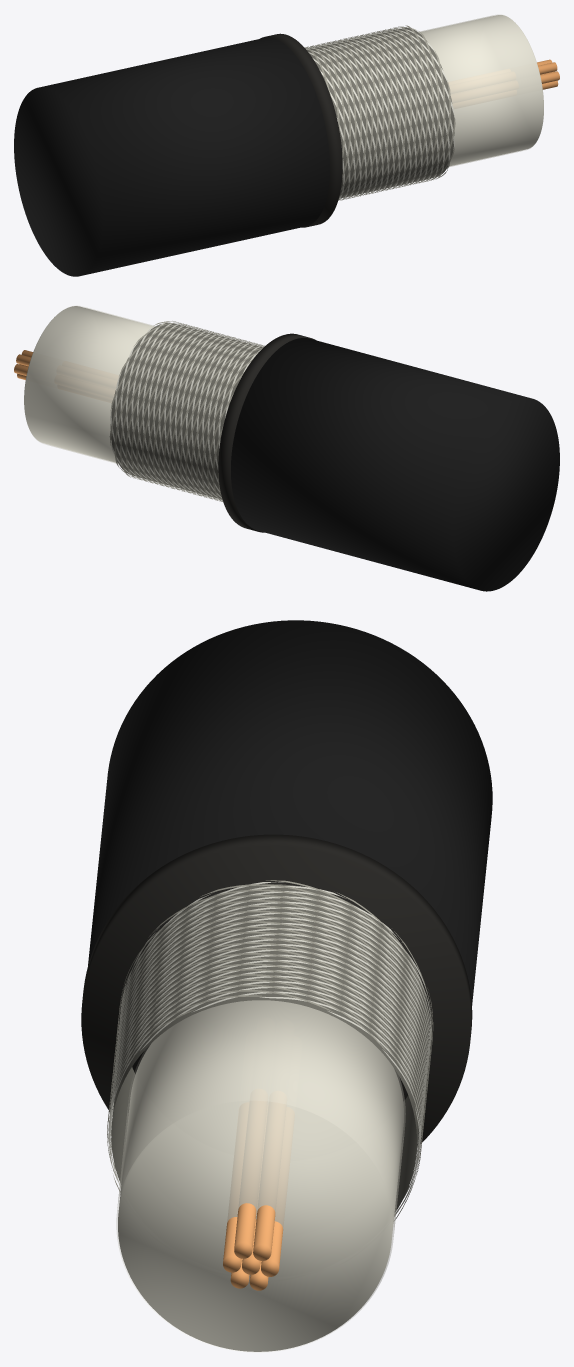
File: rf-syv509.glb
3 views of the same model, one above another, from view 1: azimuth 30°, elevation 25°; view 2: azimuth 150°, elevation 25°; view 3: azimuth 270°, elevation 25° (orthographic). The views are drawn at different scales.
Parts seen in each view (by area): view 1: matte black pvc jacket body, smooth dielectric skin, gas injected foam dielectric, braid dark diamond recess, jacket cut lip, braid left hand woven carrier 14, braid left hand woven carrier 01, braid left hand woven carrier 02, braid left hand woven carrier 13, braid left hand woven carrier 12, braid left hand woven carrier 03, braid left hand woven carrier 11 (+17 smaller); view 2: matte black pvc jacket body, smooth dielectric skin, gas injected foam dielectric, braid dark diamond recess, jacket cut lip, braid left hand woven carrier 10, braid left hand woven carrier 09, braid left hand woven carrier 08, braid left hand woven carrier 11, braid left hand woven carrier 07, braid left hand woven carrier 12, braid left hand woven carrier 06 (+16 smaller); view 3: matte black pvc jacket body, gas injected foam dielectric, jacket cut lip, smooth dielectric skin, braid dark diamond recess, braid left hand woven carrier 10, braid left hand woven carrier 11, braid left hand woven carrier 09, braid left hand woven carrier 12, braid right hand woven carrier 12, braid left hand woven carrier 13, braid right hand woven carrier 13 (+20 smaller).
Part boxes in pixels (box(x1,y1,x2,y2)): matte black pvc jacket body: box(14, 37, 329, 276); smooth dielectric skin: box(418, 14, 543, 166); gas injected foam dielectric: box(419, 15, 543, 165); braid dark diamond recess: box(306, 27, 454, 197); jacket cut lip: box(260, 33, 342, 227); braid left hand woven carrier 14: box(321, 25, 434, 190); braid left hand woven carrier 01: box(327, 31, 439, 197); braid left hand woven carrier 02: box(332, 40, 445, 200); braid left hand woven carrier 13: box(316, 26, 428, 189); braid left hand woven carrier 12: box(310, 27, 423, 190); braid left hand woven carrier 03: box(338, 38, 450, 200); braid left hand woven carrier 11: box(305, 29, 417, 192); matte black pvc jacket body: box(231, 338, 559, 591); smooth dielectric skin: box(24, 305, 155, 463); gas injected foam dielectric: box(24, 306, 154, 462); braid dark diamond recess: box(110, 322, 263, 499); jacket cut lip: box(218, 333, 315, 532); braid left hand woven carrier 10: box(114, 328, 258, 497); braid left hand woven carrier 09: box(120, 330, 252, 498); braid left hand woven carrier 08: box(125, 331, 244, 500); braid left hand woven carrier 11: box(109, 327, 262, 495); braid left hand woven carrier 07: box(131, 333, 234, 501); braid left hand woven carrier 12: box(110, 325, 264, 494); braid left hand woven carrier 06: box(136, 334, 238, 501); matte black pvc jacket body: box(88, 620, 492, 1005); gas injected foam dielectric: box(118, 1000, 403, 1351); jacket cut lip: box(81, 834, 472, 1145); smooth dielectric skin: box(116, 1000, 405, 1352); braid dark diamond recess: box(111, 884, 428, 1212); braid left hand woven carrier 10: box(111, 894, 429, 1220); braid left hand woven carrier 11: box(111, 900, 429, 1171); braid left hand woven carrier 09: box(112, 889, 430, 1216); braid left hand woven carrier 12: box(110, 905, 428, 1111); braid right hand woven carrier 12: box(108, 901, 431, 1171); braid left hand woven carrier 13: box(110, 910, 428, 1112); braid right hand woven carrier 13: box(109, 896, 426, 1187).
Bounding box in the file's own units: 6.55 × 2.27 × 2.4.
